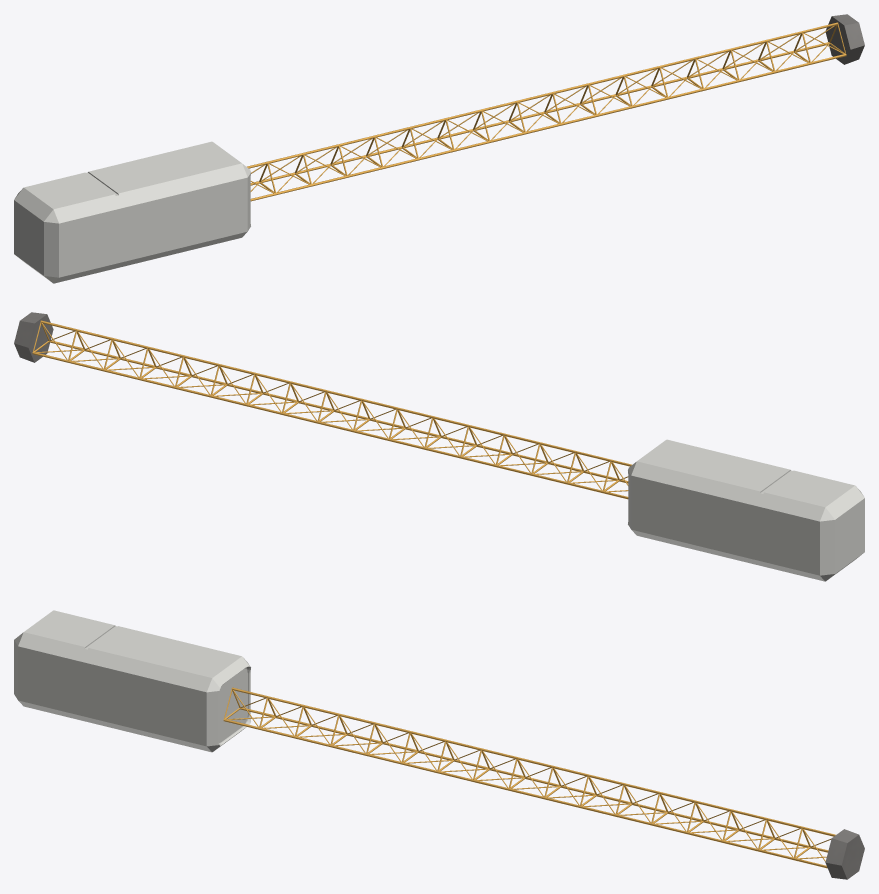
Rendered from ax_gear_12_deployable_boom_s_deployed.glb.
3 views of the same model, one above another, from view 1: azimuth 30°, elevation 25°; view 2: azimuth 150°, elevation 25°; view 3: azimuth 330°, elevation 25° (orthographic).
Visible parts, largest first — view 1: boom_canister, boom_lattice, boom_tip; view 2: boom_canister, boom_lattice, boom_tip; view 3: boom_canister, boom_lattice, boom_tip.
Boxes of the visible parts, x1,y1,x2,y2 form: boom_canister: [14, 141, 250, 283]; boom_lattice: [247, 22, 846, 201]; boom_tip: [825, 14, 864, 64]; boom_canister: [628, 439, 864, 581]; boom_lattice: [32, 320, 631, 499]; boom_tip: [14, 312, 53, 362]; boom_canister: [14, 610, 250, 752]; boom_lattice: [223, 687, 835, 868]; boom_tip: [825, 829, 864, 879].
Bounding box in the file's own units: 4.08 × 0.352 × 0.352.
Materials: 3 (2 with a texture image).
